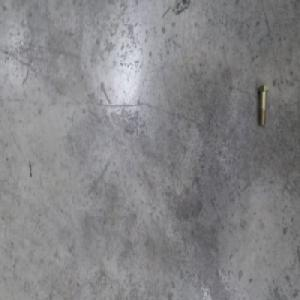Bolt: (256, 85, 268, 128)
